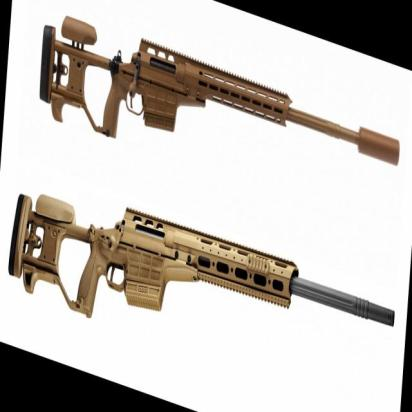Gun: (39, 11, 401, 169), (7, 190, 397, 332)
